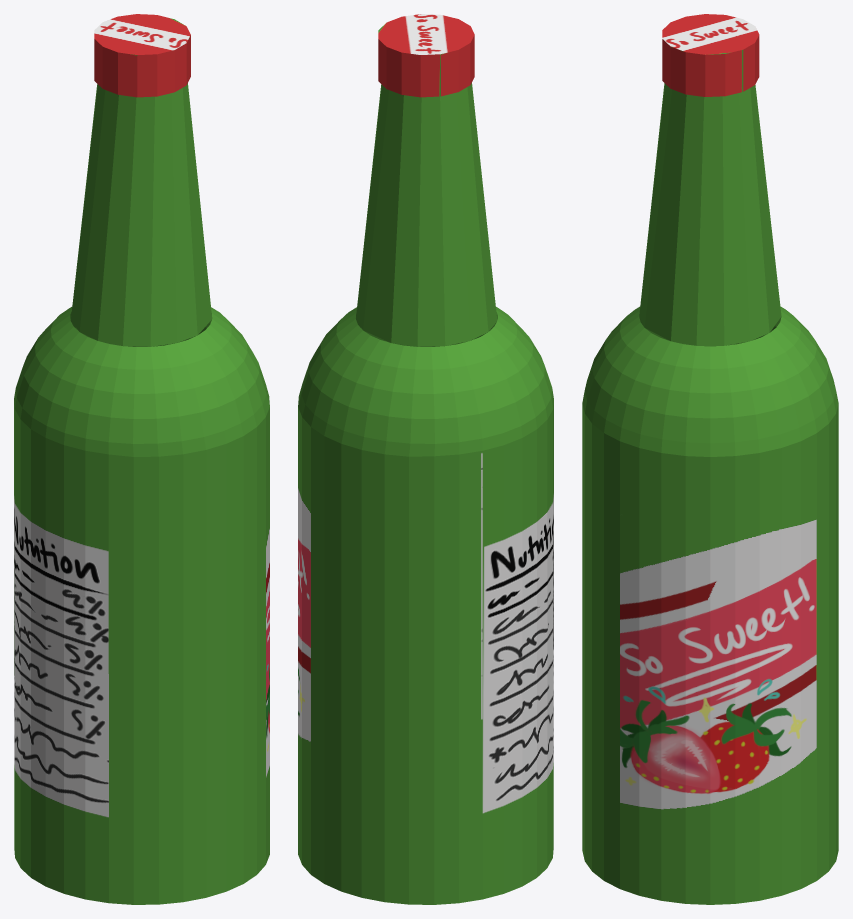
The model's file is smallBottle.obj.
3 views of the same model, side by side, from view 1: azimuth 30°, elevation 25°; view 2: azimuth 150°, elevation 25°; view 3: azimuth 270°, elevation 25° (orthographic).
Parts seen in each view (by area): view 1: Cylinder.001_Cylinder.004; view 2: Cylinder.001_Cylinder.004; view 3: Cylinder.001_Cylinder.004.
Boxes of the visible parts, x1,y1,x2,y2 form: Cylinder.001_Cylinder.004: [14, 14, 269, 904]; Cylinder.001_Cylinder.004: [298, 14, 553, 904]; Cylinder.001_Cylinder.004: [582, 14, 838, 904].
Bounding box in the file's own units: 0.1401 × 0.4921 × 0.14.
Materials: 1 (1 with a texture image).
